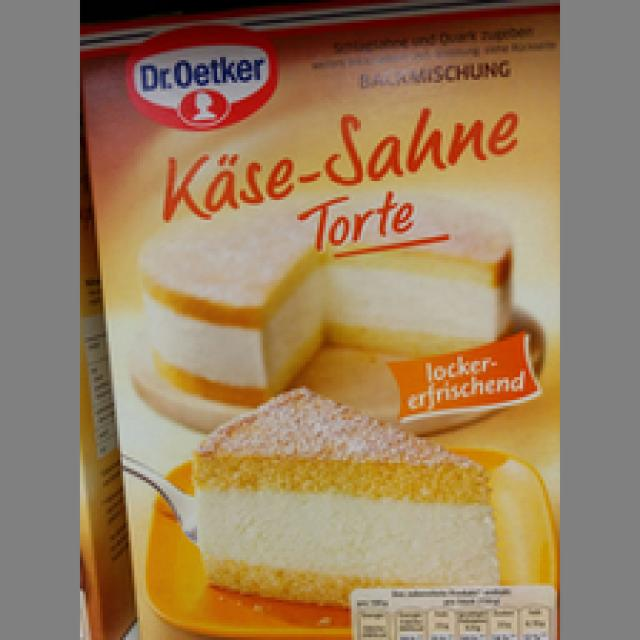groceries: (83, 9, 551, 634)
